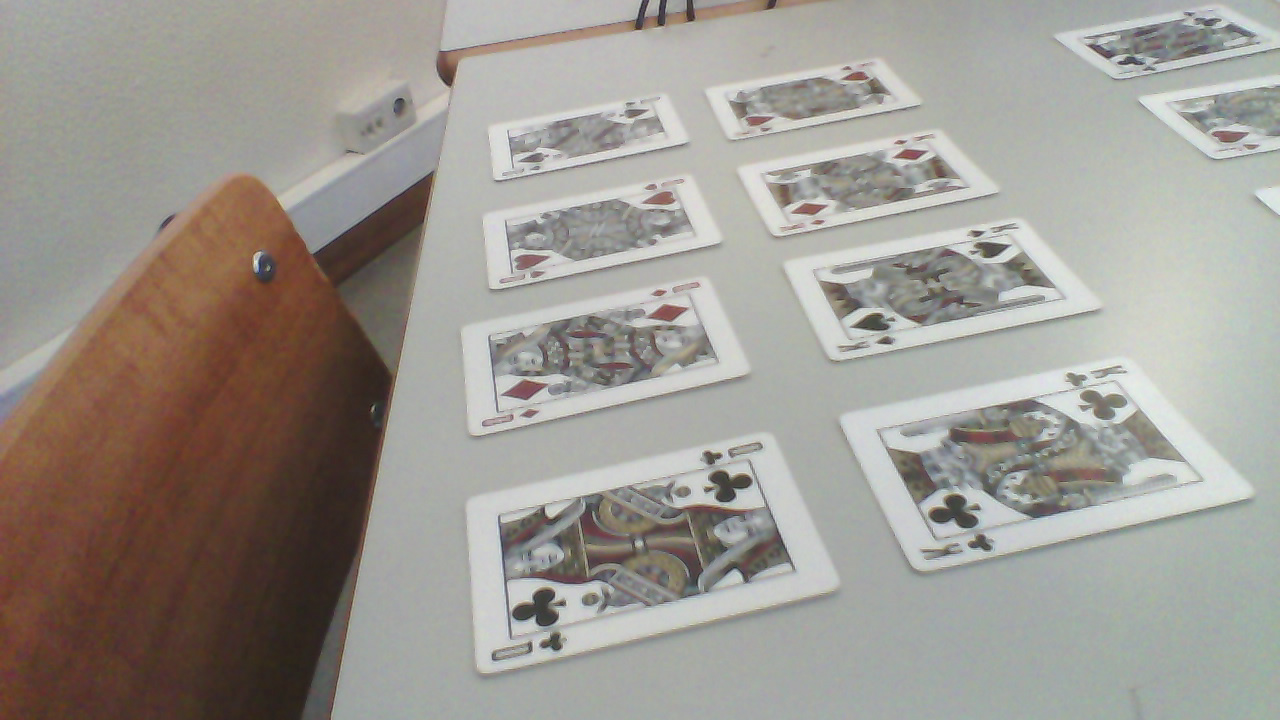king_clubs: (840, 367, 1260, 582)
king_hearts: (698, 57, 931, 146)
king_spades: (797, 225, 1116, 361)
queen_diamonds: (448, 286, 761, 438)
